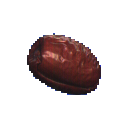ng: (23, 28, 109, 104)
